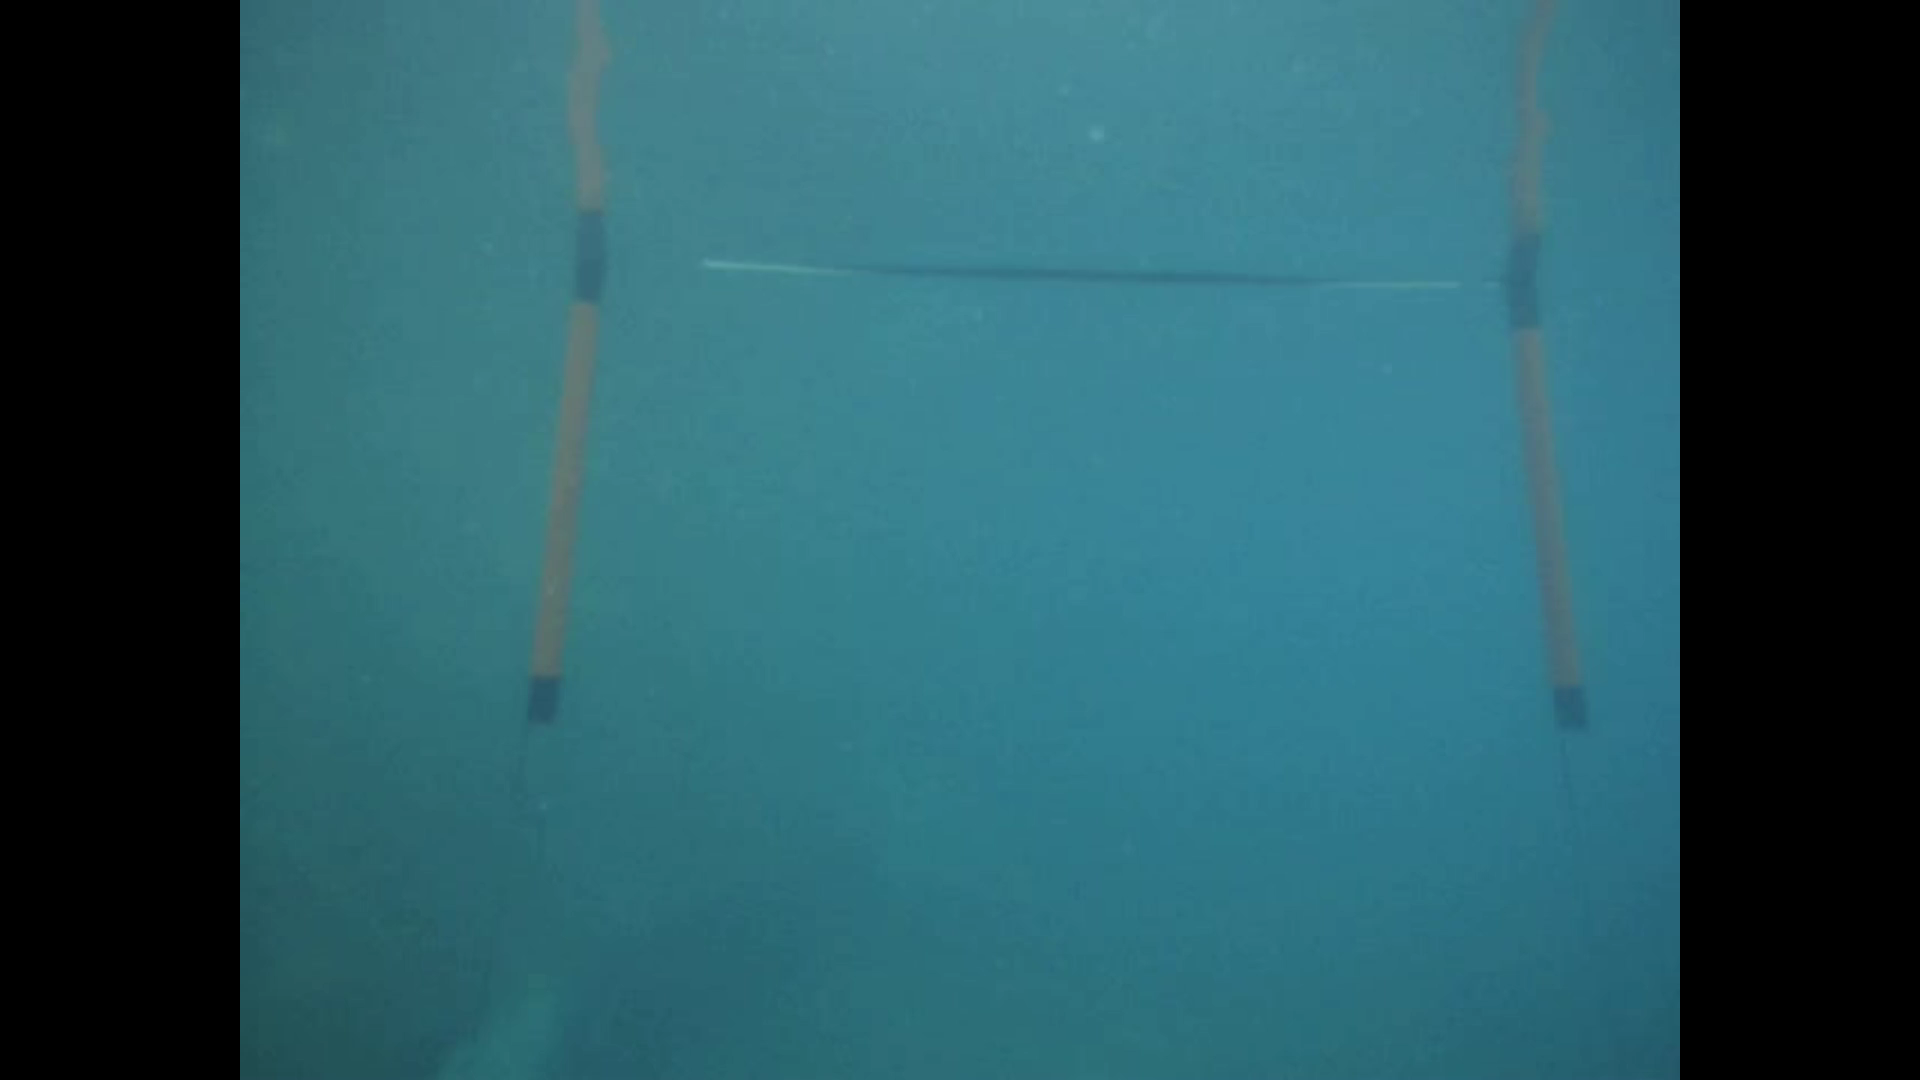gate: (516, 261, 1589, 746)
